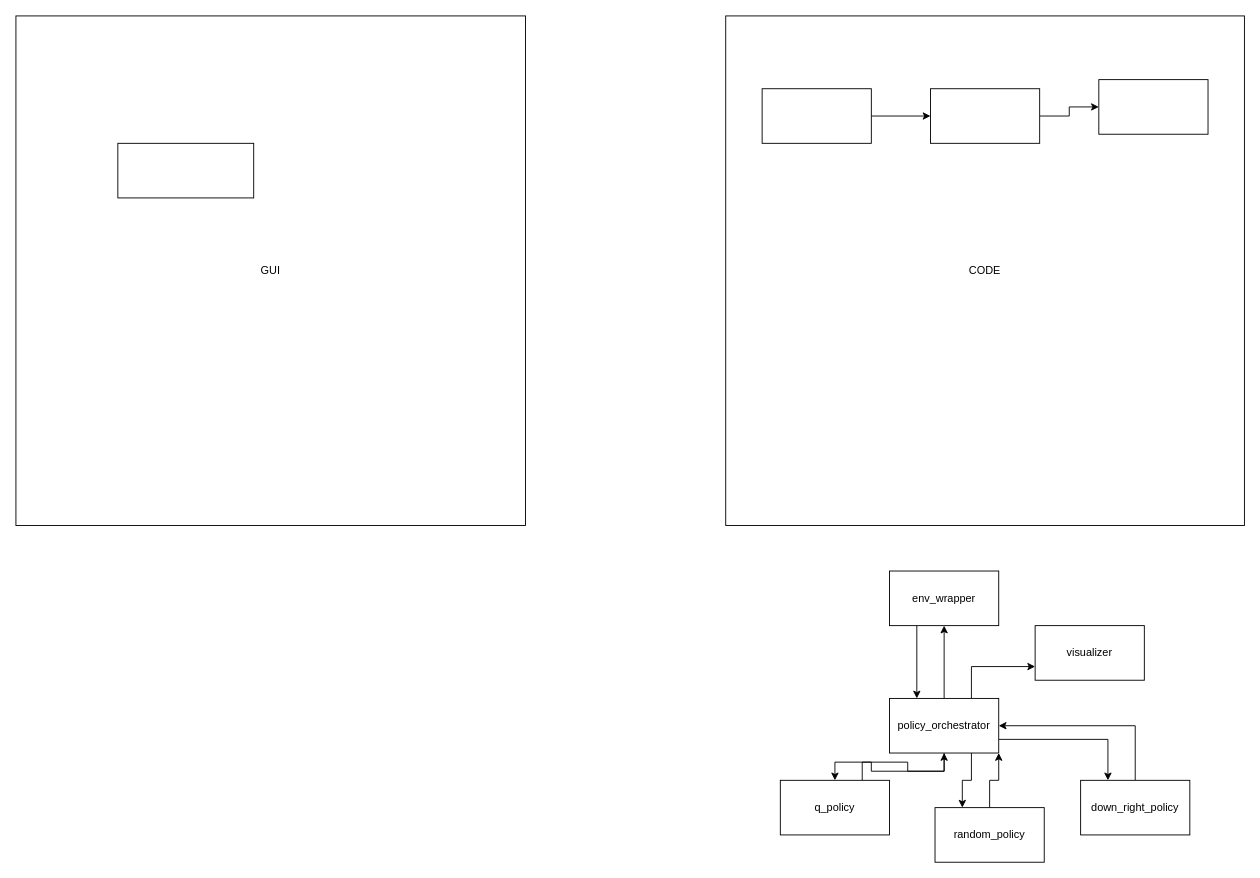
This 1260x878 diagram has some shape labels left out. The shapes that lost their labels are listed below. From the top down, each one's centre as x and y in pixels, then its label:
At point 816,115: "autoGenerator".
At point 985,115: "autoMid".
At point 1153,106: "autoSink".
At point 185,170: "Button".
